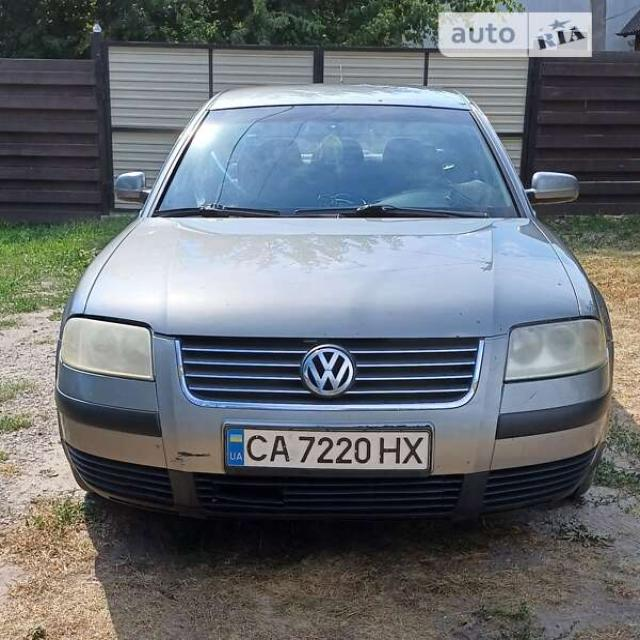plate: (222, 415, 433, 483)
